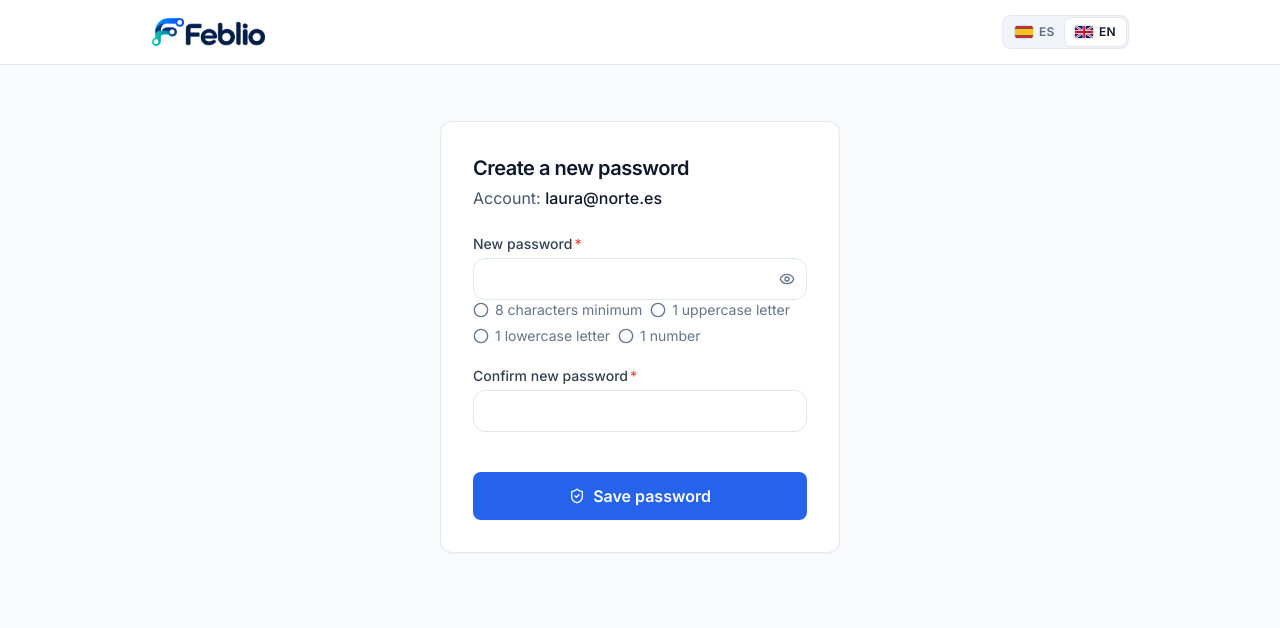
<ResetPasswordPage /> in English › server error when updating is translated into English
Type "Segura123" into the password field labelled "New password*" at (640, 279), box [473, 258, 807, 300]
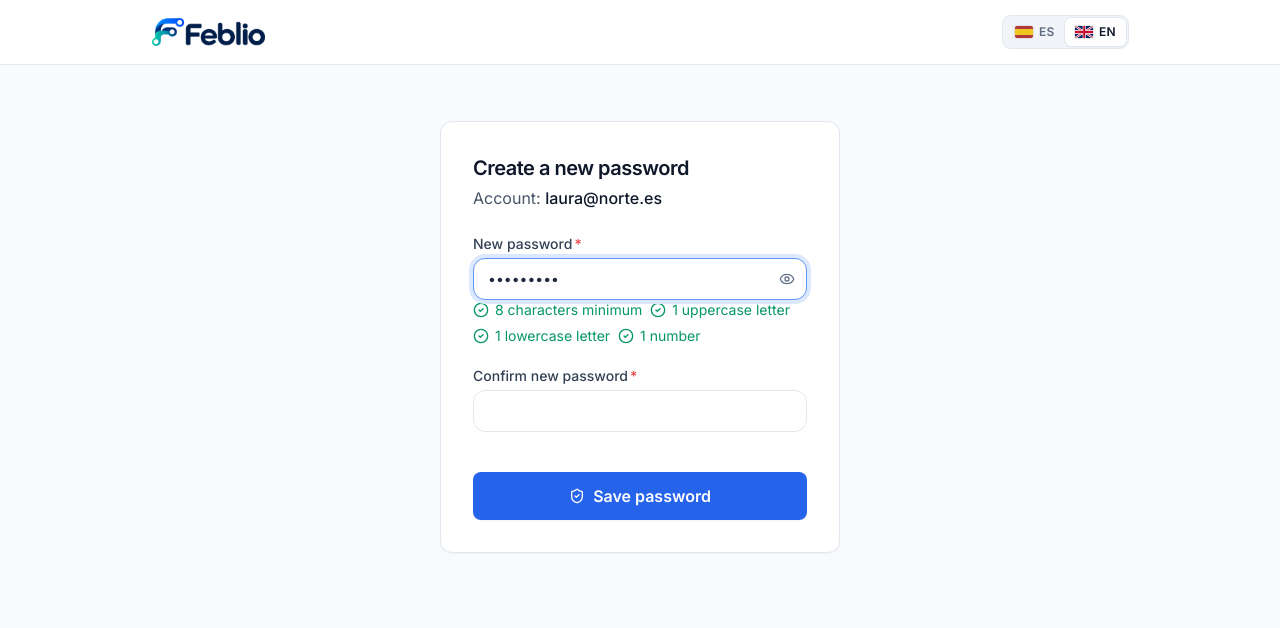
Type "Segura123" into the password field labelled "Confirm new password*" at (640, 411), box [473, 390, 807, 432]
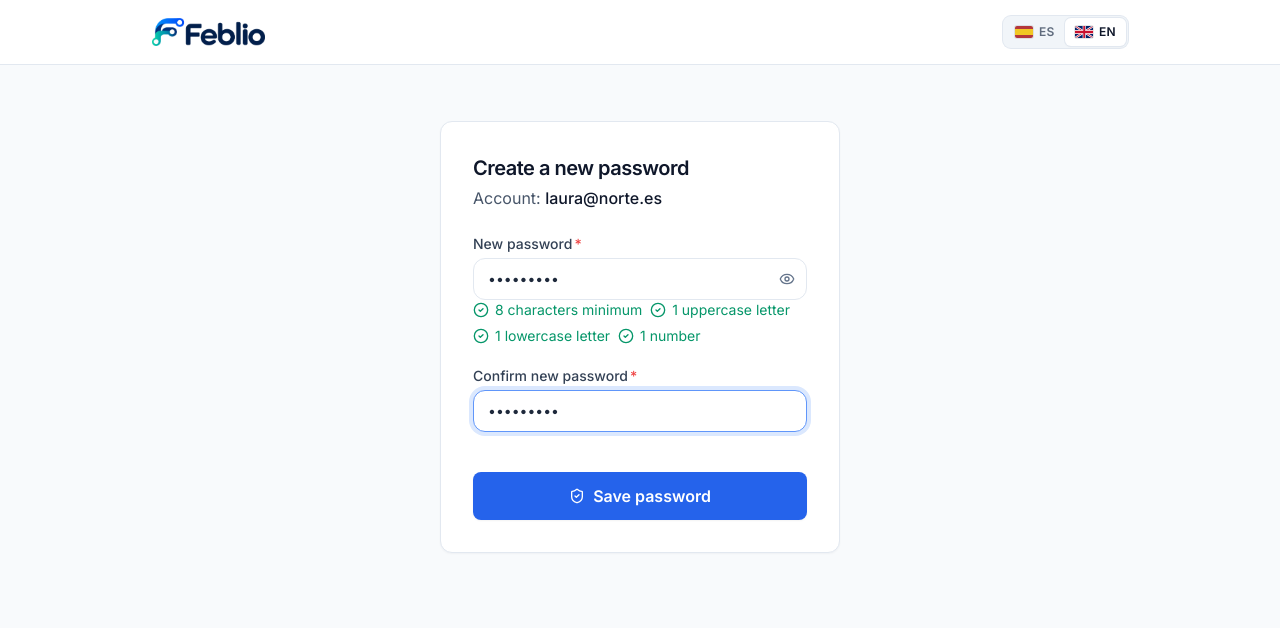
Click the button "Save password" at (640, 496), box [473, 472, 807, 520]
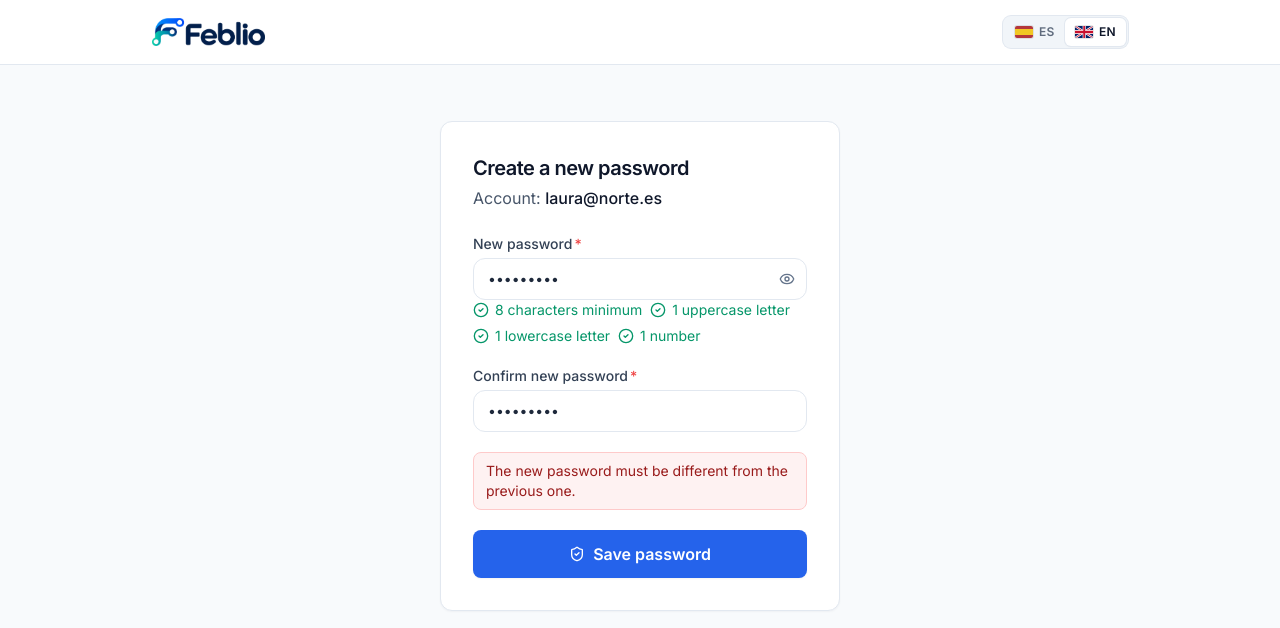
Expected: the message shows "must be different from the previous one", [486, 462, 788, 499]
